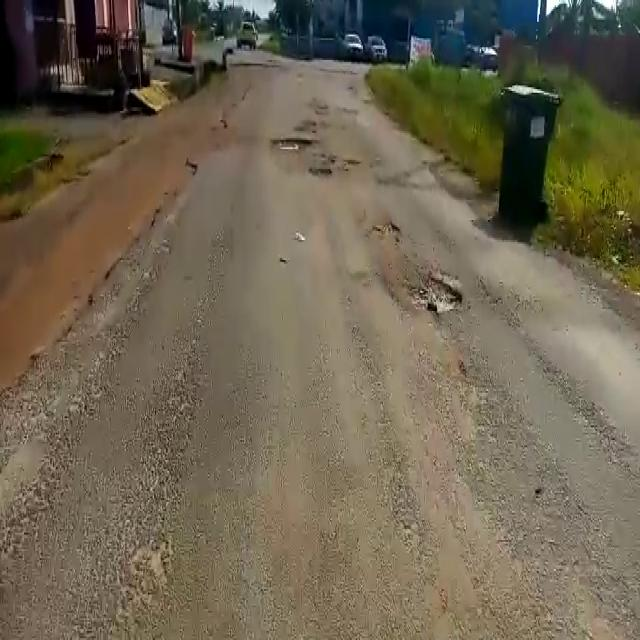Pothole: (395, 267, 463, 321), (269, 133, 312, 150), (308, 164, 334, 181)
